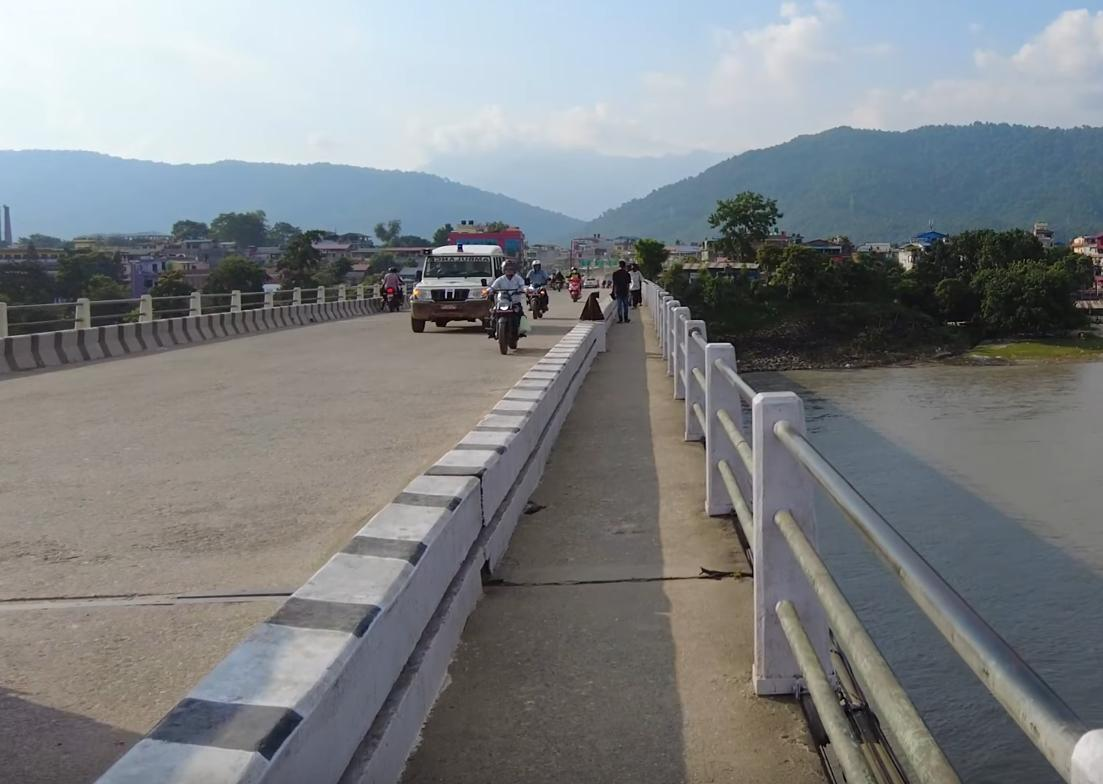ambulance: (407, 236, 523, 331)
